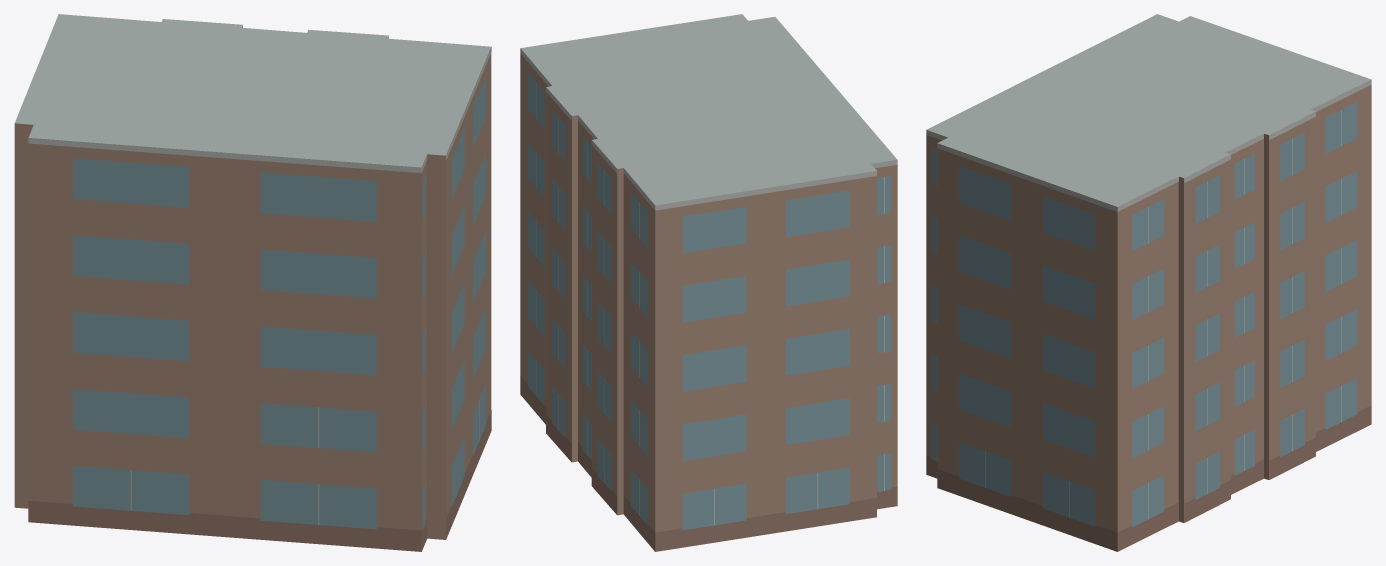
Rendered from survey-upis-32979636.glb.
The picture shows the model from 3 angles, left to right: view 1: azimuth 30°, elevation 25°; view 2: azimuth 150°, elevation 25°; view 3: azimuth 270°, elevation 25°; orthographic projection. The views are drawn at different scales.
Parts seen in each view (by area): view 1: survey-upis-32979636.tmp; view 2: survey-upis-32979636.tmp; view 3: survey-upis-32979636.tmp.
Part boxes in pixels (x1,y1,x2,y2): survey-upis-32979636.tmp: (14, 14, 491, 551); survey-upis-32979636.tmp: (520, 14, 897, 551); survey-upis-32979636.tmp: (926, 14, 1371, 551).
Size of the model in its own units: 19.93 by 16.6 by 19.43.
